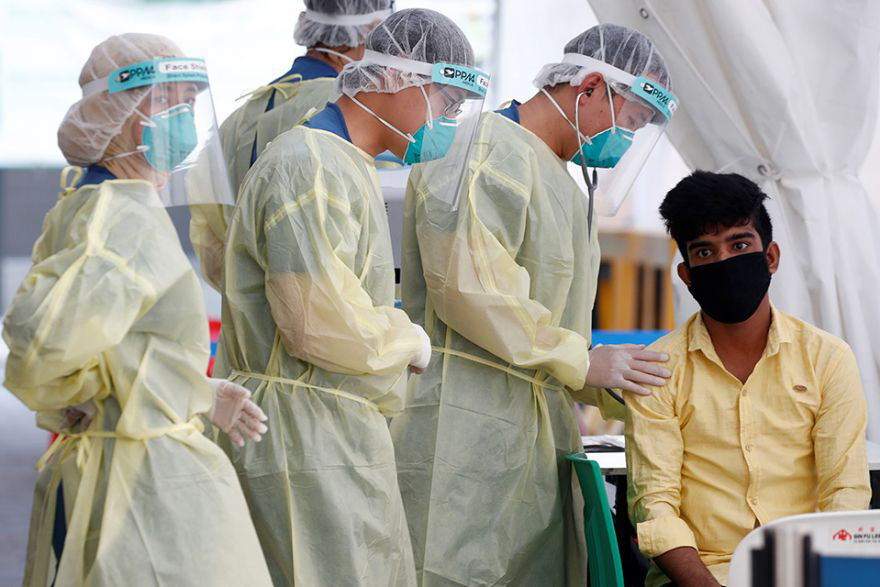Coverall: (229, 134, 405, 577), (32, 193, 226, 587)
Gloves: (201, 368, 272, 453), (586, 339, 675, 401)
Goggles: (422, 130, 591, 587)
with_mask: (683, 231, 778, 327), (141, 86, 200, 174), (566, 101, 639, 170), (403, 94, 461, 170)
